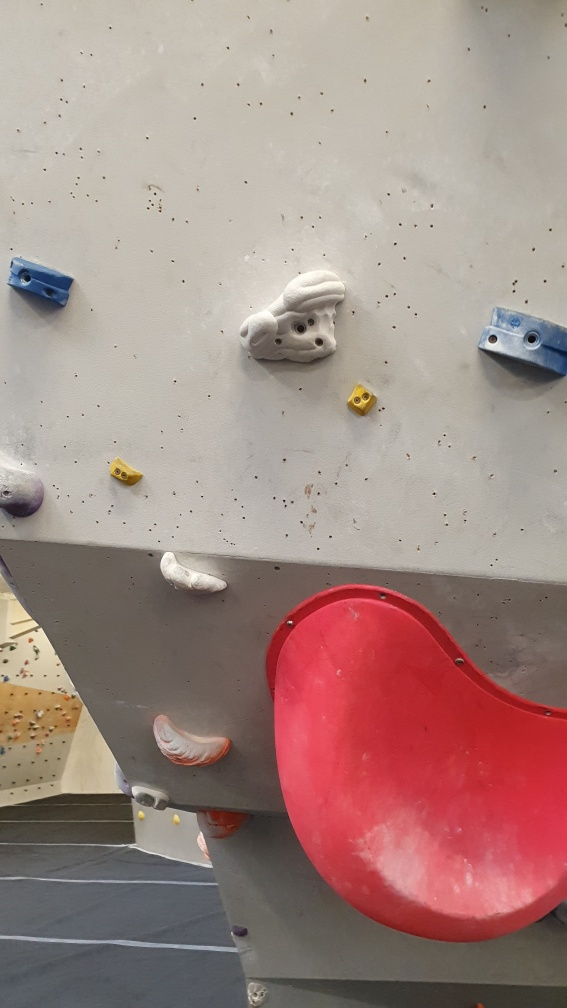Crimp: (103, 454, 145, 489)
Jug: (233, 268, 353, 367), (146, 711, 238, 775), (156, 548, 234, 602)
Pinch: (476, 301, 567, 373), (6, 254, 80, 306), (344, 380, 380, 417)
